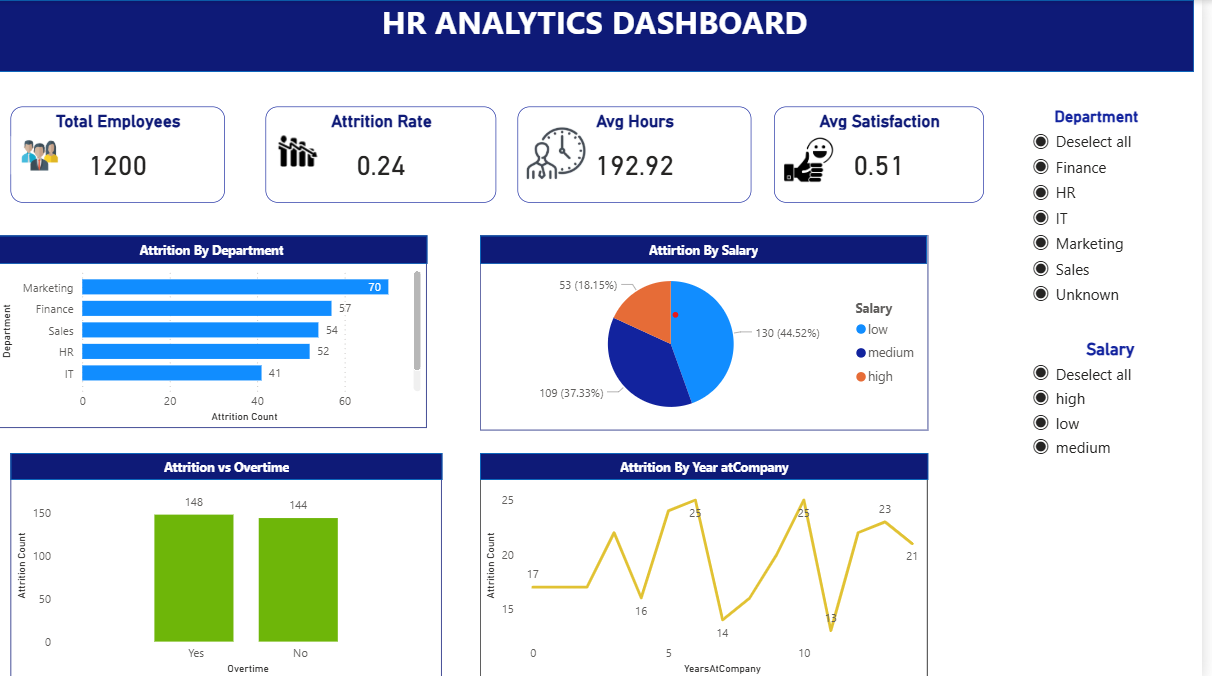

Layout of this report page (visuals, bound fields, positions):
{"tool":"powerbi","page":{"name":"Page 1","canvas":[1280,720],"ordinal":0},"visuals":[{"type":"card","title":"Total Employees","fields":{"Values":["hr_messy_dataset.Total Employees"]},"box":[17.5,112.9,227.5,101.8],"z":0},{"type":"card","title":"Attrition Rate","fields":{"Values":["hr_messy_dataset.Attrition Rate"]},"box":[287.9,112.9,245,101.8],"z":1000},{"type":"listSlicer","fields":{"Values":["hr_messy_dataset.Salary"]},"box":[1096.1,359.1,175.7,241.9],"z":2000},{"type":"card","title":"Avg Satisfaction","fields":{"Values":["hr_messy_dataset.Avg Satisfaction"]},"box":[827.1,112.9,222.7,101.8],"z":3000},{"type":"card","title":"Avg Hours","fields":{"Values":["hr_messy_dataset.Avg Hours"]},"box":[555.1,112.9,248.1,101.8],"z":4000},{"type":"shape","box":[1.6,0,1270.9,76.3],"z":5000},{"type":"listSlicer","fields":{"Values":["hr_messy_dataset.Department"]},"box":[1095.9,112.9,146.3,246.5],"z":6000},{"type":"barChart","title":"Attrition by Department","fields":{"Category":["hr_messy_dataset.Department"],"Y":["hr_messy_dataset.Attrition Count"]},"box":[1.9,249.5,457.3,204.1],"z":7000},{"type":"pieChart","title":"Attrition  by Salary","fields":{"Y":["hr_messy_dataset.Attrition Count"],"Category":["hr_messy_dataset.Salary"]},"box":[515.4,249.7,475.6,206.8],"z":8000},{"type":"columnChart","title":"Attrition vs Overtime","fields":{"Y":["hr_messy_dataset.Attrition Count"],"Category":["hr_messy_dataset.Overtime"]},"box":[17,480,457.3,240],"z":9000},{"type":"lineChart","title":"Attrition  by YearsAtCompany","fields":{"Y":["hr_messy_dataset.Attrition Count"],"Category":["hr_messy_dataset.YearsAtCompany"]},"box":[515.9,480,474.3,240],"z":10000},{"type":"image","box":[17.5,144.7,62,39.8],"z":11000},{"type":"image","box":[287.9,138.4,73.2,46.1],"z":12000},{"type":"image","box":[555.1,130.4,84.3,63.6],"z":13000},{"type":"image","box":[827.1,144.7,71.6,49.3],"z":14000},{"type":"shape","box":[1.6,249.7,458.1,30.2],"z":15000},{"type":"shape","box":[515.4,249.7,474,30.2],"z":15001},{"type":"shape","box":[17.5,480.4,458.1,28.6],"z":15002},{"type":"shape","box":[515.4,480.4,475.6,28.6],"z":15003}]}

Visuals, with their boxes in screenshot pixels (x1, y1, x2, y2), scaled from the page's 1280x720 canvas onto the 1212x676 screenshot:
"Total Employees" card: x1=17, y1=106, x2=232, y2=202
"Attrition Rate" card: x1=273, y1=106, x2=505, y2=202
listSlicer - hr_messy_dataset.Salary: x1=1038, y1=337, x2=1204, y2=564
"Avg Satisfaction" card: x1=783, y1=106, x2=994, y2=202
"Avg Hours" card: x1=526, y1=106, x2=761, y2=202
shape: x1=2, y1=0, x2=1205, y2=72
listSlicer - hr_messy_dataset.Department: x1=1038, y1=106, x2=1176, y2=337
"Attrition by Department" barChart: x1=2, y1=234, x2=435, y2=426
"Attrition  by Salary" pieChart: x1=488, y1=234, x2=938, y2=429
"Attrition vs Overtime" columnChart: x1=16, y1=451, x2=449, y2=675
"Attrition  by YearsAtCompany" lineChart: x1=488, y1=451, x2=938, y2=675
image: x1=17, y1=136, x2=75, y2=173
image: x1=273, y1=130, x2=342, y2=173
image: x1=526, y1=122, x2=605, y2=182
image: x1=783, y1=136, x2=851, y2=182
shape: x1=2, y1=234, x2=435, y2=263
shape: x1=488, y1=234, x2=937, y2=263
shape: x1=17, y1=451, x2=450, y2=478
shape: x1=488, y1=451, x2=938, y2=478
